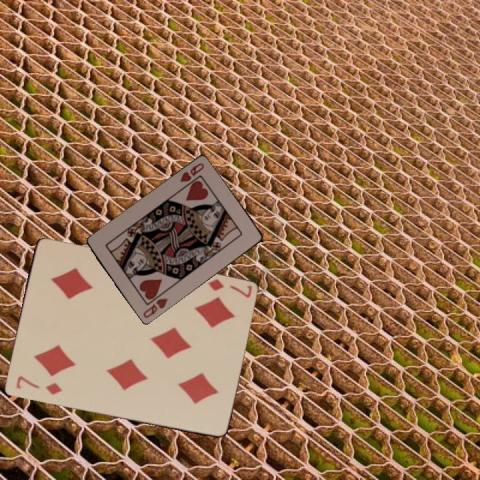7d: (12, 372, 63, 396), (205, 276, 253, 299)
Qh: (140, 295, 169, 320), (177, 160, 205, 184)
